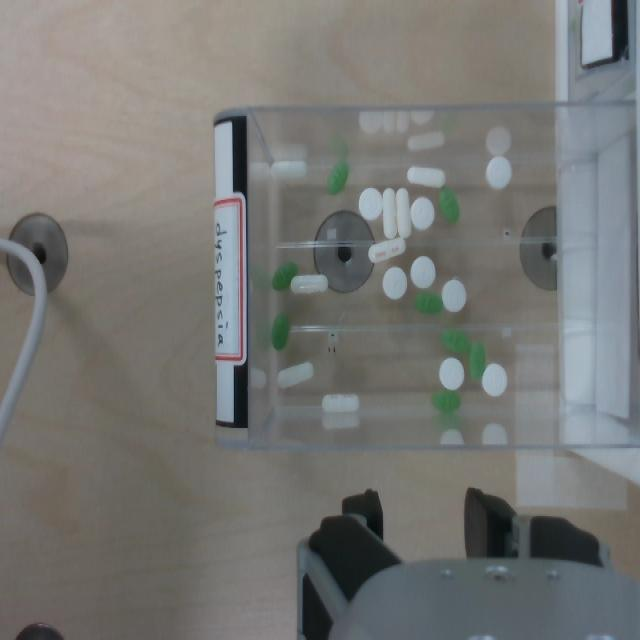magmil_tab: (485, 156, 511, 189), (481, 363, 507, 396), (441, 279, 466, 312), (410, 256, 435, 288), (439, 357, 464, 389), (410, 196, 434, 229), (358, 188, 382, 220), (382, 267, 406, 299)
medilacsenteric_tab: (368, 237, 405, 263), (278, 361, 313, 388), (407, 165, 445, 187), (382, 188, 397, 237), (396, 188, 410, 237), (290, 275, 327, 293), (271, 160, 306, 179), (322, 395, 359, 412)
nexilen_tab: (439, 185, 459, 223), (272, 261, 297, 291), (441, 328, 470, 353), (327, 161, 348, 193), (271, 313, 289, 349), (433, 389, 460, 413), (414, 291, 442, 313), (469, 341, 485, 379)
